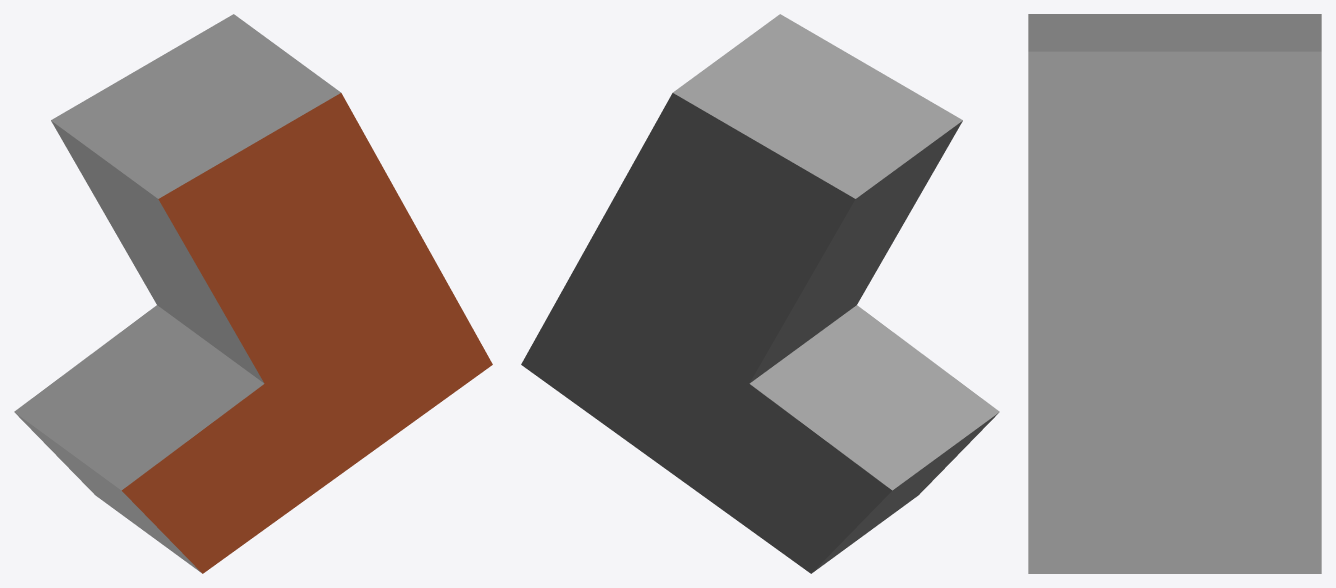
Rendered from construction_3463_assumed_A_Casa_h6m.obj.
3 views of the same model, side by side, from view 1: azimuth 30°, elevation 25°; view 2: azimuth 150°, elevation 25°; view 3: azimuth 270°, elevation 25° (orthographic). The views are drawn at different scales.
Visible parts, largest first — view 1: construction_3463_assumed_A_Casa; view 2: construction_3463_assumed_A_Casa; view 3: construction_3463_assumed_A_Casa.
Boxes of the visible parts, <box> form: construction_3463_assumed_A_Casa: <box>14,14,492,573</box>; construction_3463_assumed_A_Casa: <box>521,14,999,573</box>; construction_3463_assumed_A_Casa: <box>1028,14,1321,573</box>.
Size of the model in its own units: 11.97 by 13.77 by 6.
